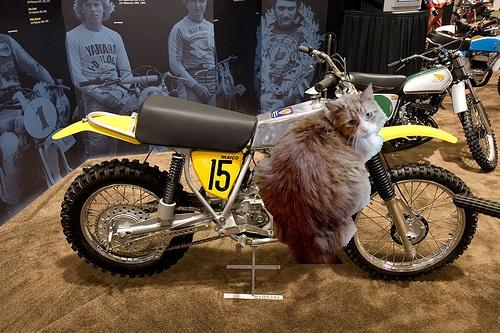tampered: (254, 84, 388, 264)
